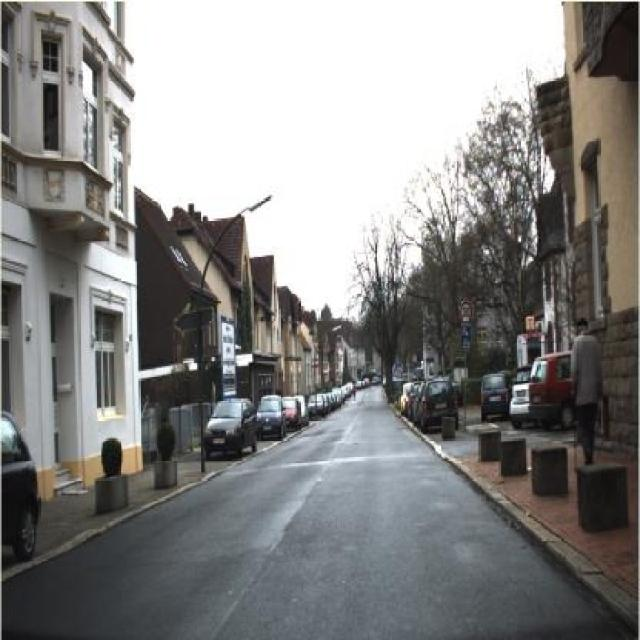forb_speed_over_30: (458, 299, 473, 327)
